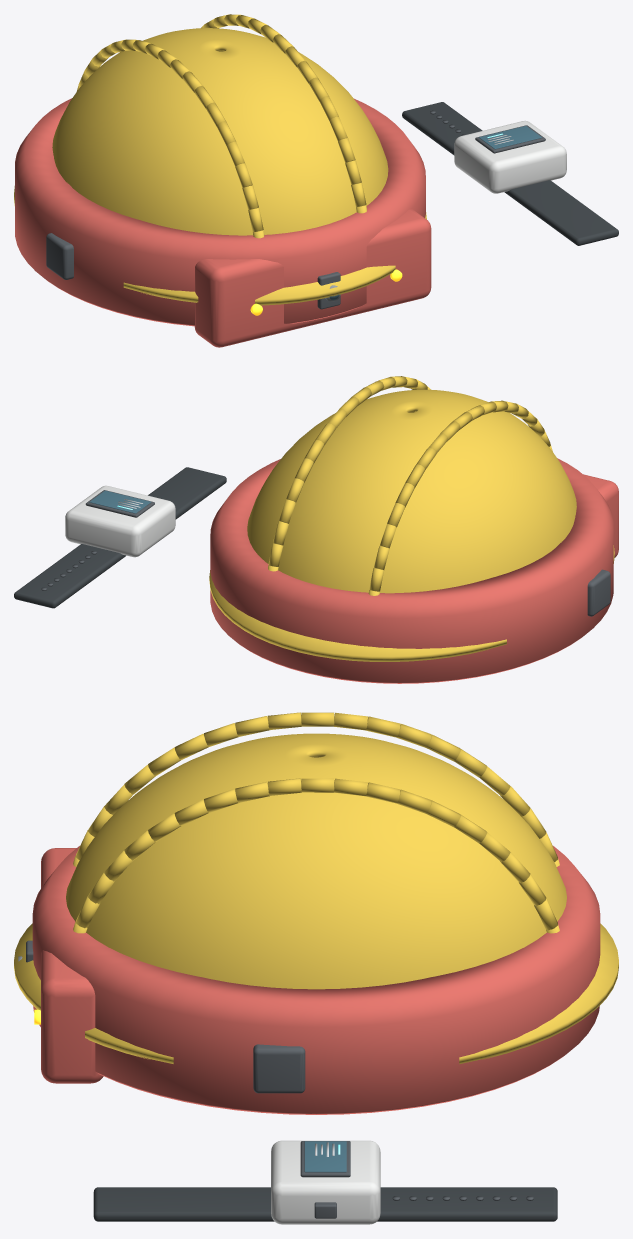
The model's file is connected-worker-smart-safety-helmet.glb.
The picture shows the model from 3 angles, top to bottom: view 1: azimuth 30°, elevation 25°; view 2: azimuth 150°, elevation 25°; view 3: azimuth 270°, elevation 25°; orthographic projection. The views are drawn at different scales.
Parts seen in each view (by area): view 1: Dome_0001, Red_Annular_Housing_0045, Front_Module_0046, Strap_0055, White_Case_0056, Brim_0002, Side_Sensor_0053, Panel_0058; view 2: Dome_0001, Red_Annular_Housing_0045, Strap_0055, White_Case_0056, Brim_0002, Side_Sensor_0053, Front_Module_0046, Panel_0058; view 3: Dome_0001, Red_Annular_Housing_0045, Strap_0055, White_Case_0056, Front_Module_0046, Brim_0002, Side_Sensor_0054, Panel_0058.
Boxes of the visible parts, bbox=[...] form: Dome_0001: bbox=[52, 28, 388, 235]; Red_Annular_Housing_0045: bbox=[15, 98, 425, 326]; Front_Module_0046: bbox=[194, 209, 431, 347]; Strap_0055: bbox=[402, 102, 618, 245]; White_Case_0056: bbox=[454, 120, 566, 193]; Brim_0002: bbox=[14, 186, 426, 305]; Side_Sensor_0053: bbox=[46, 233, 73, 279]; Panel_0058: bbox=[479, 126, 541, 149]; Dome_0001: bbox=[247, 389, 576, 593]; Red_Annular_Housing_0045: bbox=[210, 458, 613, 683]; Strap_0055: bbox=[14, 467, 226, 608]; White_Case_0056: bbox=[65, 485, 175, 557]; Brim_0002: bbox=[209, 545, 614, 661]; Side_Sensor_0053: bbox=[587, 569, 610, 616]; Front_Module_0046: bbox=[583, 474, 618, 557]; Panel_0058: bbox=[89, 490, 150, 513]; Dome_0001: bbox=[66, 733, 566, 989]; Red_Annular_Housing_0045: bbox=[32, 846, 600, 1114]; Strap_0055: bbox=[93, 1187, 557, 1221]; White_Case_0056: bbox=[271, 1140, 380, 1224]; Front_Module_0046: bbox=[41, 848, 103, 1083]; Brim_0002: bbox=[14, 923, 618, 1063]; Side_Sensor_0054: bbox=[253, 1044, 305, 1093]; Panel_0058: bbox=[304, 1141, 346, 1172].
Size of the model in its own units: 0.423 by 0.1678 by 0.326.
